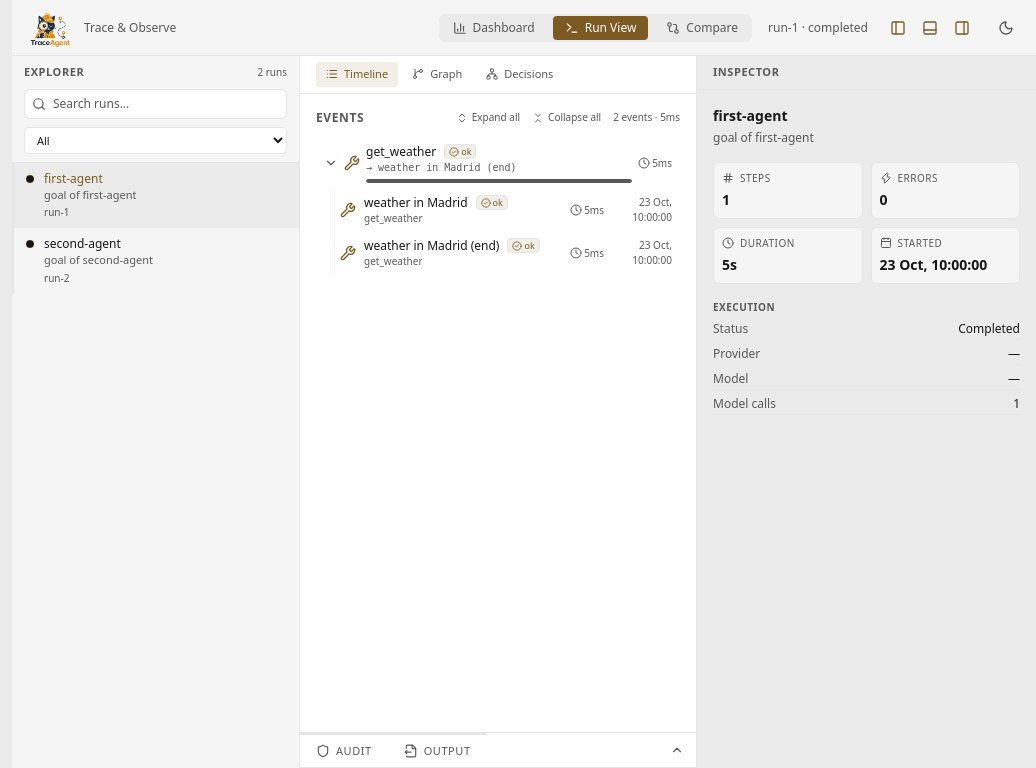
Test case: App › goes back to the run in the inspector when the view changes, instead of keeping the event of the other view
Click the text "weather in Madrid". click: (416,202)
box: left=364, top=194, right=468, bottom=210
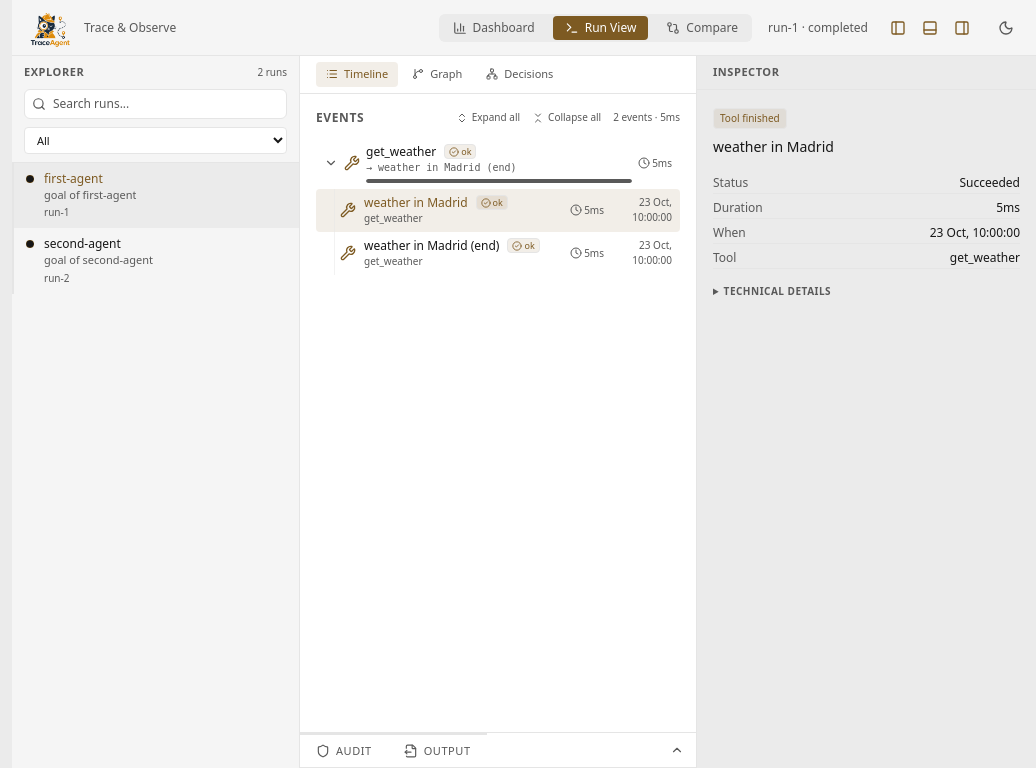
Click the button "Graph". click: (437,74)
box: left=402, top=62, right=472, bottom=86
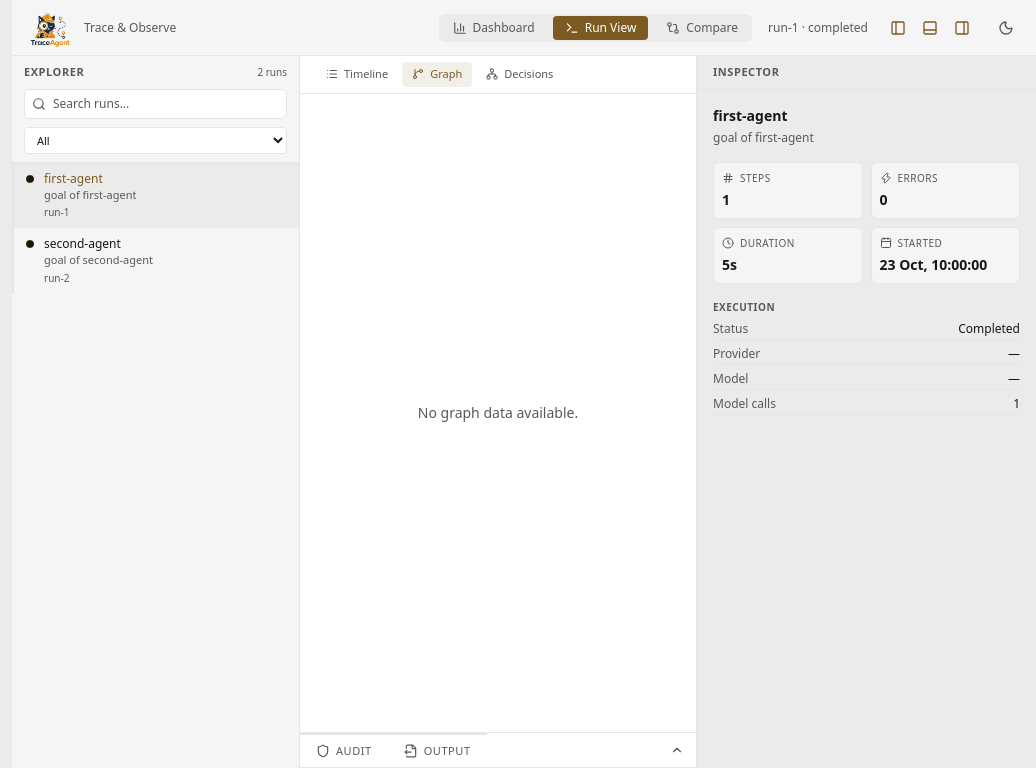
Now the text "goal of first-agent" below "Inspector" is shown, box left=713, top=128, right=814, bottom=146
